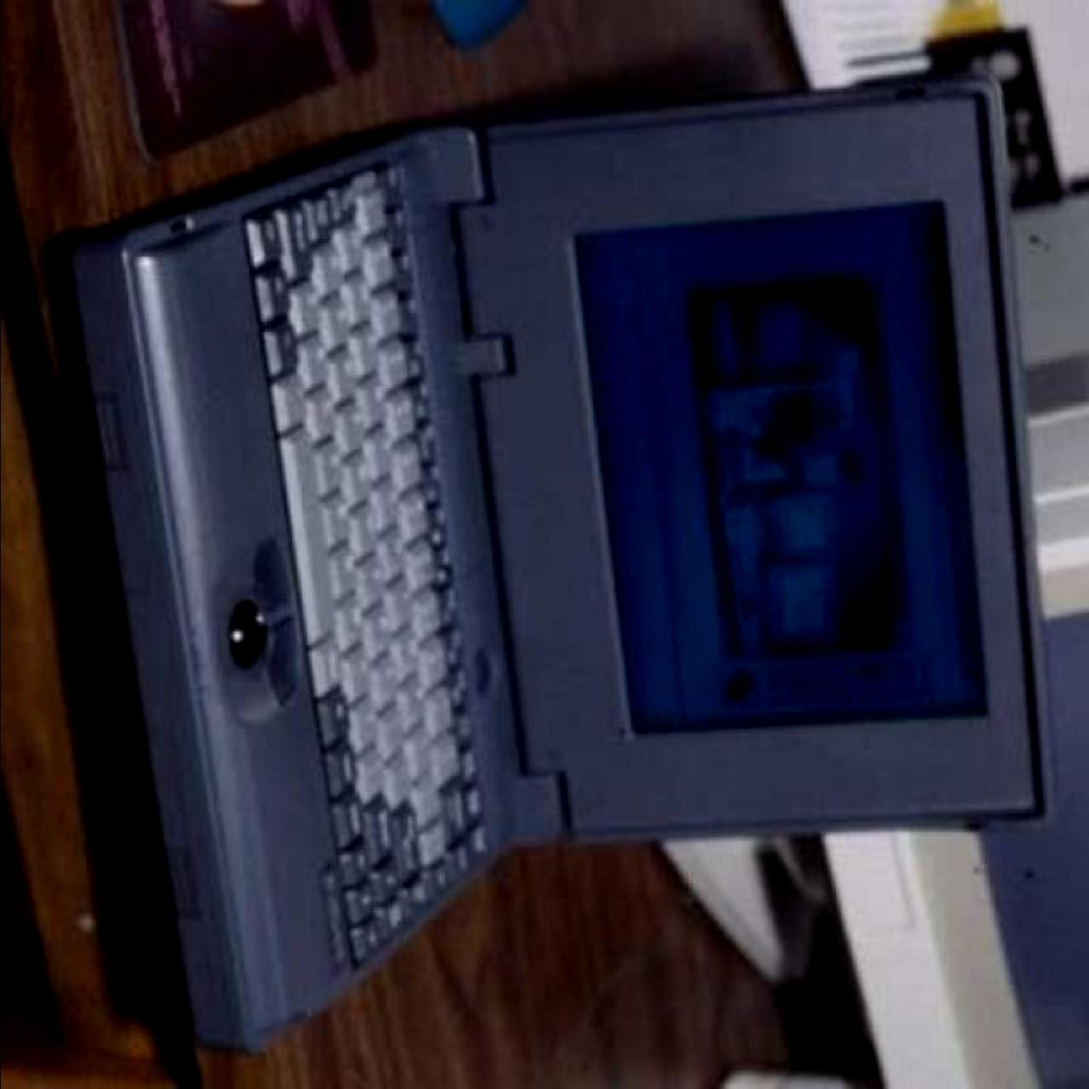laptop: (64, 27, 1076, 1021)
